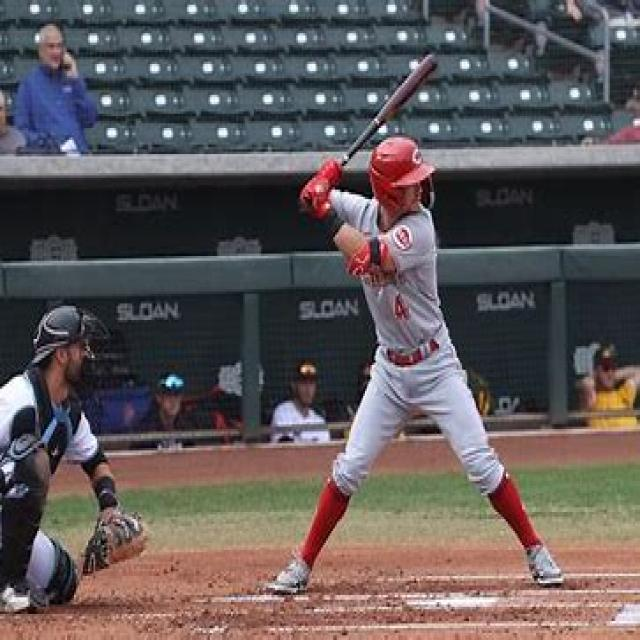bat: (335, 48, 440, 175)
